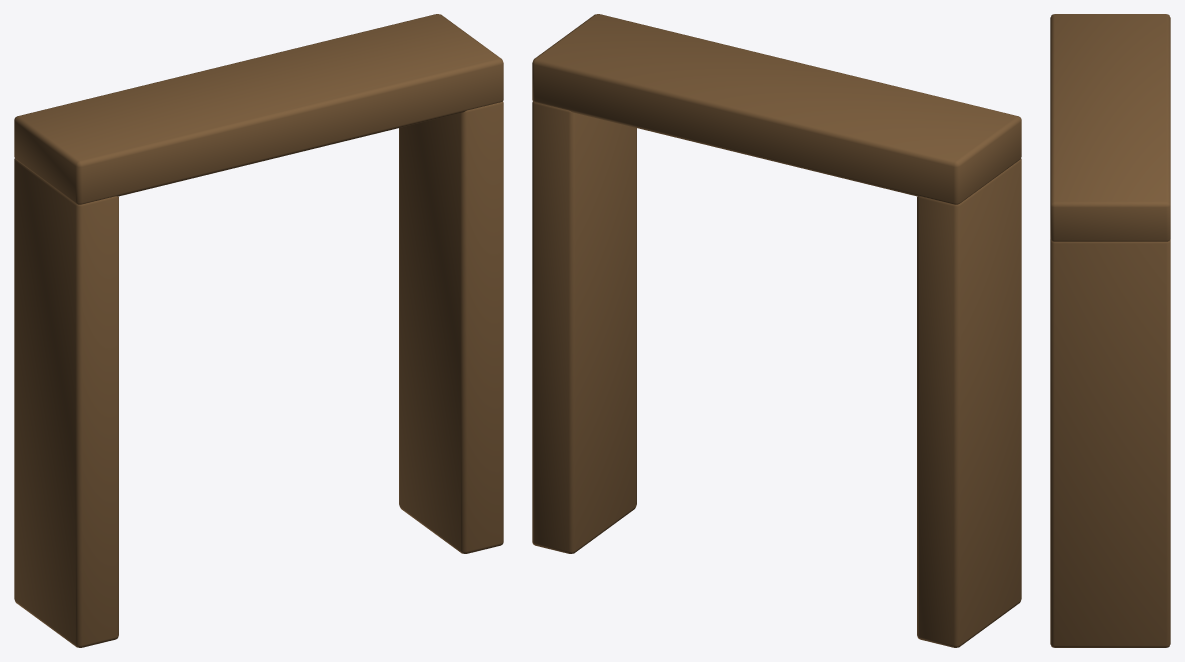
Rendered from Door_01.fbx.
3 views of the same model, side by side, from view 1: azimuth 30°, elevation 25°; view 2: azimuth 150°, elevation 25°; view 3: azimuth 270°, elevation 25° (orthographic). The views are drawn at different scales.
Parts seen in each view (by area): view 1: Door_01; view 2: Door_01; view 3: Door_01.
Boxes of the visible parts, <box> form: Door_01: <box>14,14,503,647</box>; Door_01: <box>532,14,1021,647</box>; Door_01: <box>1050,14,1170,647</box>.
Size of the model in its own units: 2 by 2.18 by 0.533.
